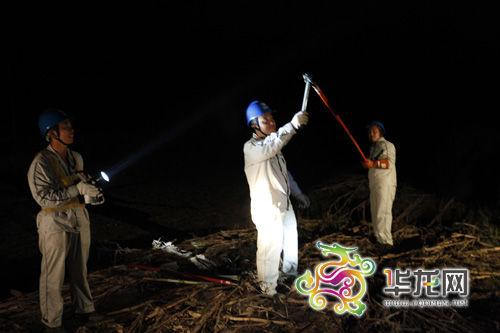boots: (74, 310, 104, 321)
gloves: (76, 180, 103, 206), (289, 181, 311, 209), (363, 154, 391, 170), (291, 111, 309, 130)
hard-hat: (38, 107, 70, 135), (245, 100, 272, 127), (367, 120, 385, 135)
person: (27, 108, 105, 332), (242, 99, 311, 297), (360, 120, 398, 246)
